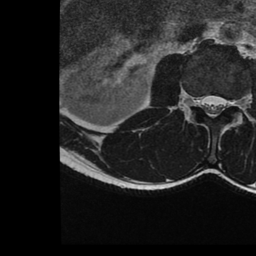CCS_normal: (208, 86, 217, 125)
LFS_normal: (227, 88, 236, 116)
LLS_normal: (217, 86, 226, 120)
RFS_normal: (188, 85, 198, 117)
RLS_normal: (198, 87, 208, 120)
